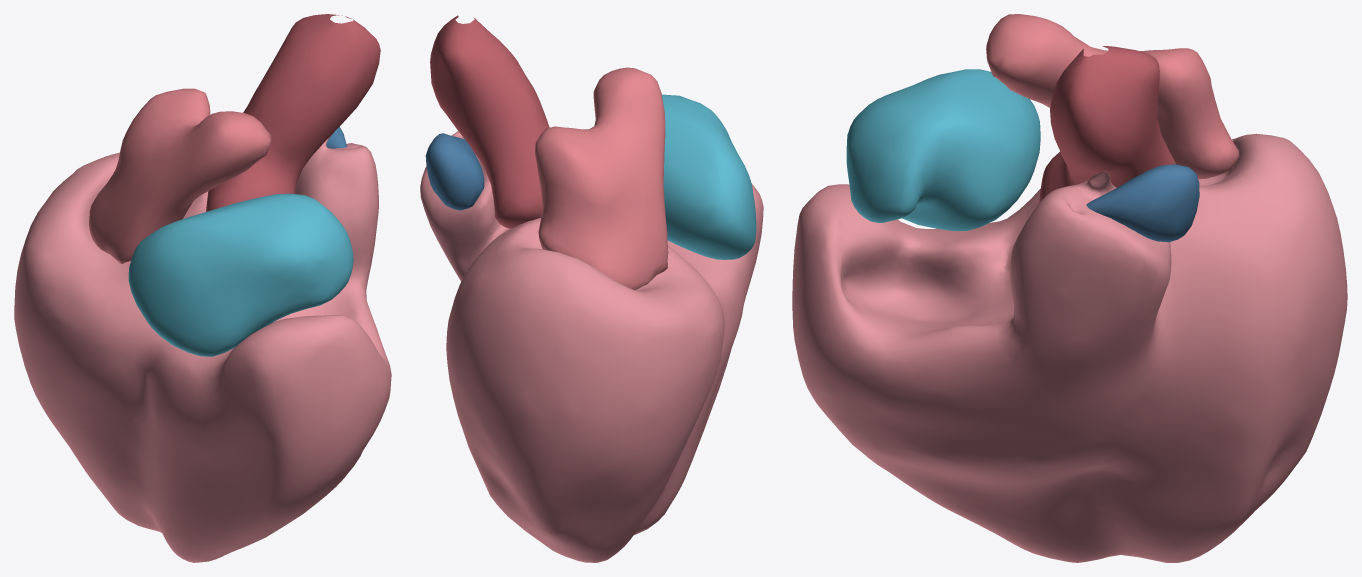
The model's file is frame_1.glb.
The picture shows the model from 3 angles, left to right: view 1: azimuth 30°, elevation 25°; view 2: azimuth 150°, elevation 25°; view 3: azimuth 270°, elevation 25°; orthographic projection. The views are drawn at different scales.
Visible parts, largest first — view 1: Renderer Node; view 2: Renderer Node; view 3: Renderer Node.
Part boxes in pixels (left/top/right/bottom): Renderer Node: left=14, top=14, right=391, bottom=562; Renderer Node: left=420, top=15, right=763, bottom=562; Renderer Node: left=792, top=14, right=1347, bottom=562.
Size of the model in its own units: 107 by 164 by 137.
